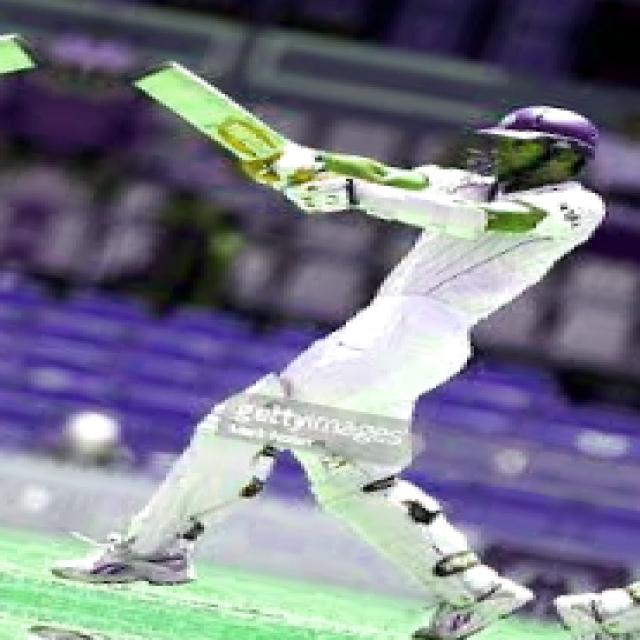toe: (110, 52, 196, 90)
